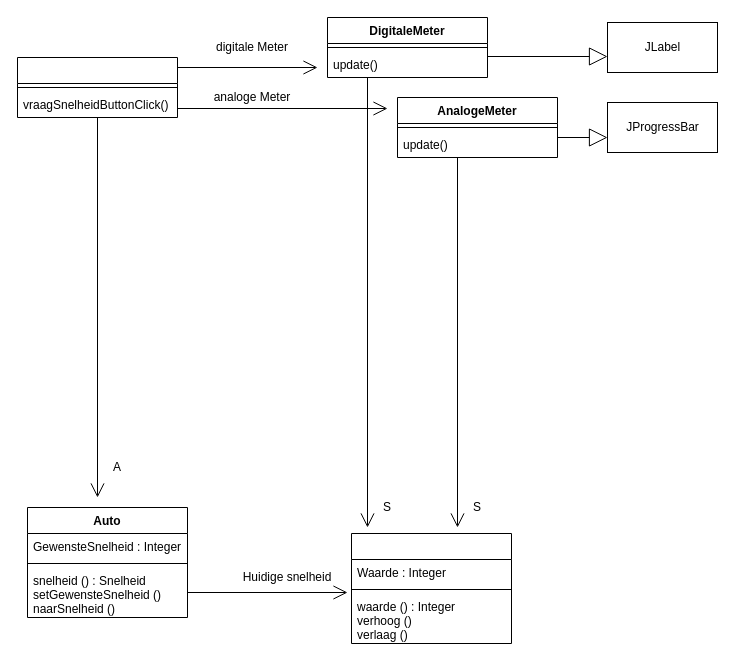
This 735x664 diagram has some shape labels left out. Each missing label, with the box of its shape:
Applicatie: (16, 56, 178, 118)
Snelheid: (350, 532, 512, 644)
